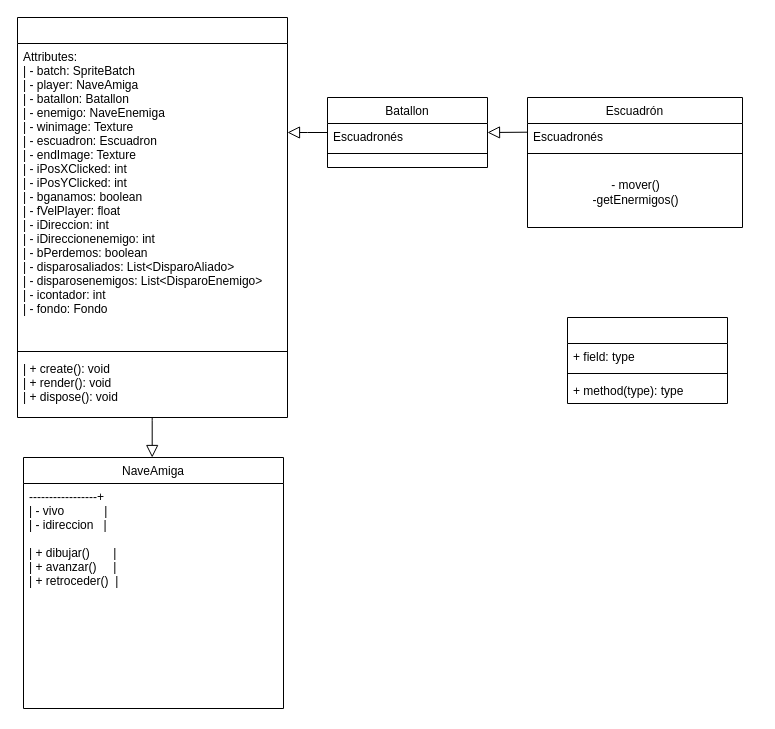
This 775x729 diagram has some shape labels left out. Each missing label, with the box of its shape:
Main: (16, 16, 288, 418)
ObjetoVolador: (566, 316, 728, 404)
